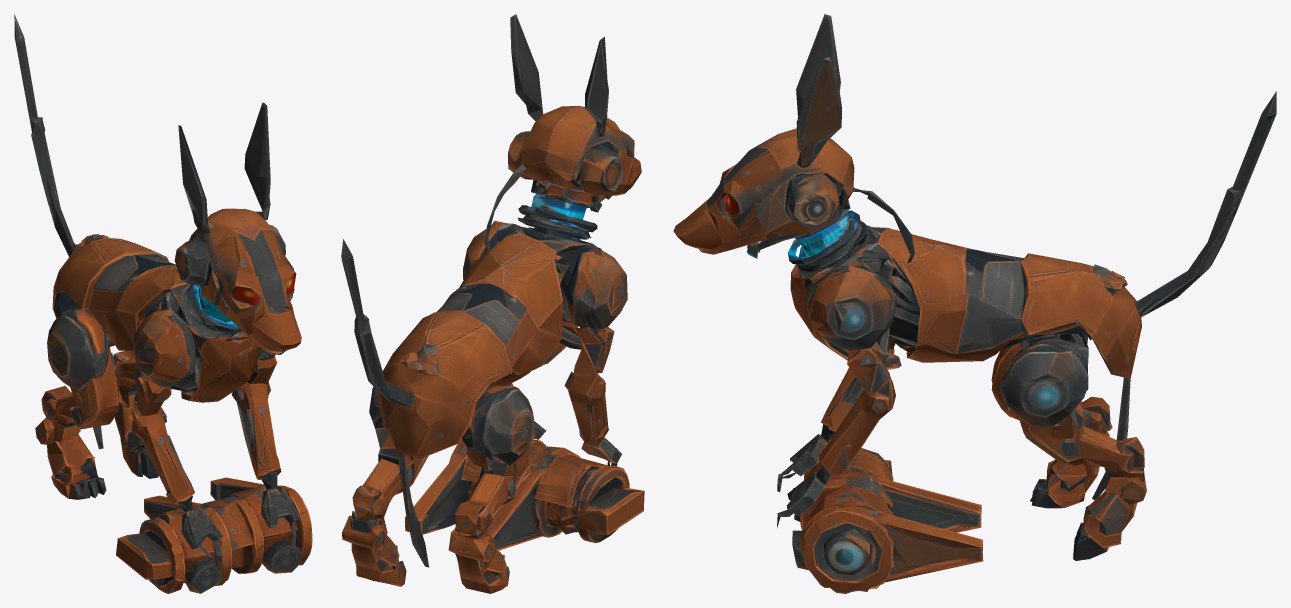
File: robot_hound.glb
3 views of the same model, side by side, from view 1: azimuth 30°, elevation 25°; view 2: azimuth 150°, elevation 25°; view 3: azimuth 270°, elevation 25° (orthographic). The views are drawn at different scales.
Size of the model in its own units: 0.668 by 1.79 by 1.89.
1 material, 1 textured.
